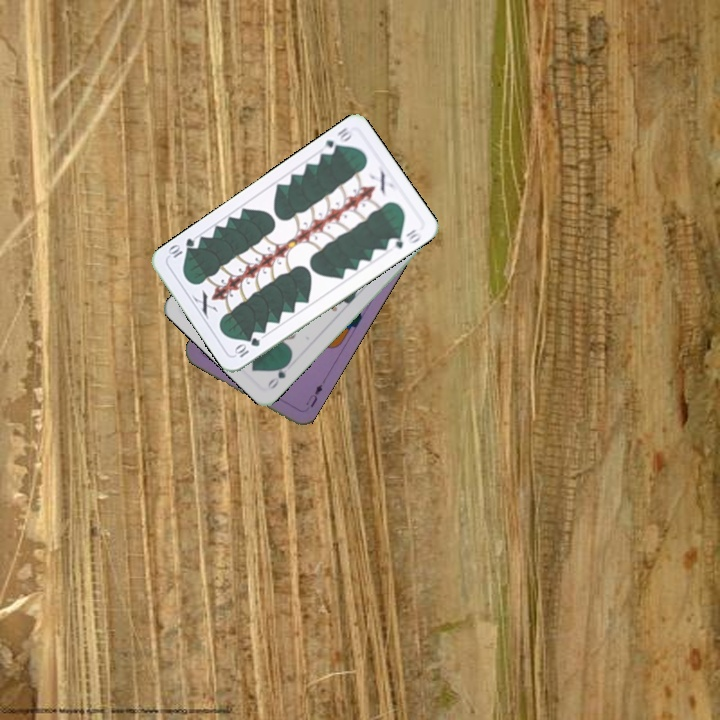EU: (302, 380, 325, 410)
G10: (317, 123, 356, 158), (230, 333, 263, 360)
GO: (264, 357, 293, 392)
